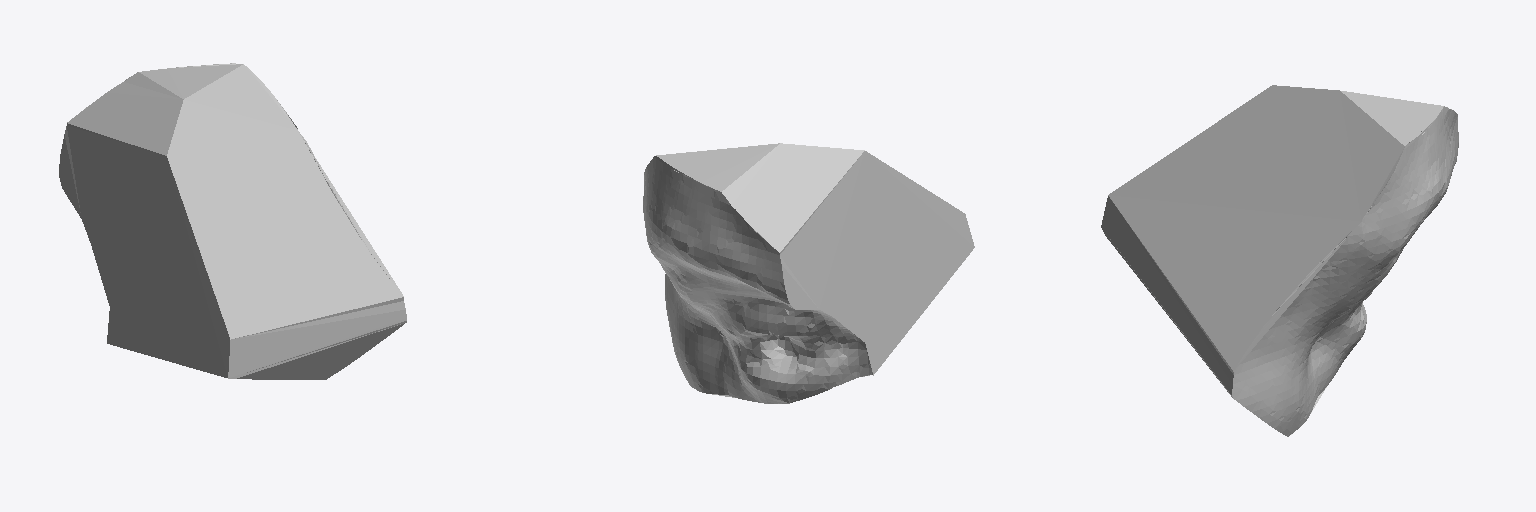
The model's file is low_cell_050.obj.
3 views of the same model, side by side, from view 1: azimuth 30°, elevation 25°; view 2: azimuth 150°, elevation 25°; view 3: azimuth 270°, elevation 25° (orthographic).
Visible parts, largest first — view 1: low_cell.050_low_cell.049; view 2: low_cell.050_low_cell.049; view 3: low_cell.050_low_cell.049.
Part boxes in pixels (x1,y1,x2,y2): low_cell.050_low_cell.049: (59,63,406,379); low_cell.050_low_cell.049: (643,143,974,403); low_cell.050_low_cell.049: (1101,85,1458,436).
Bounding box in the file's own units: 0.6267 × 0.6815 × 0.7632.